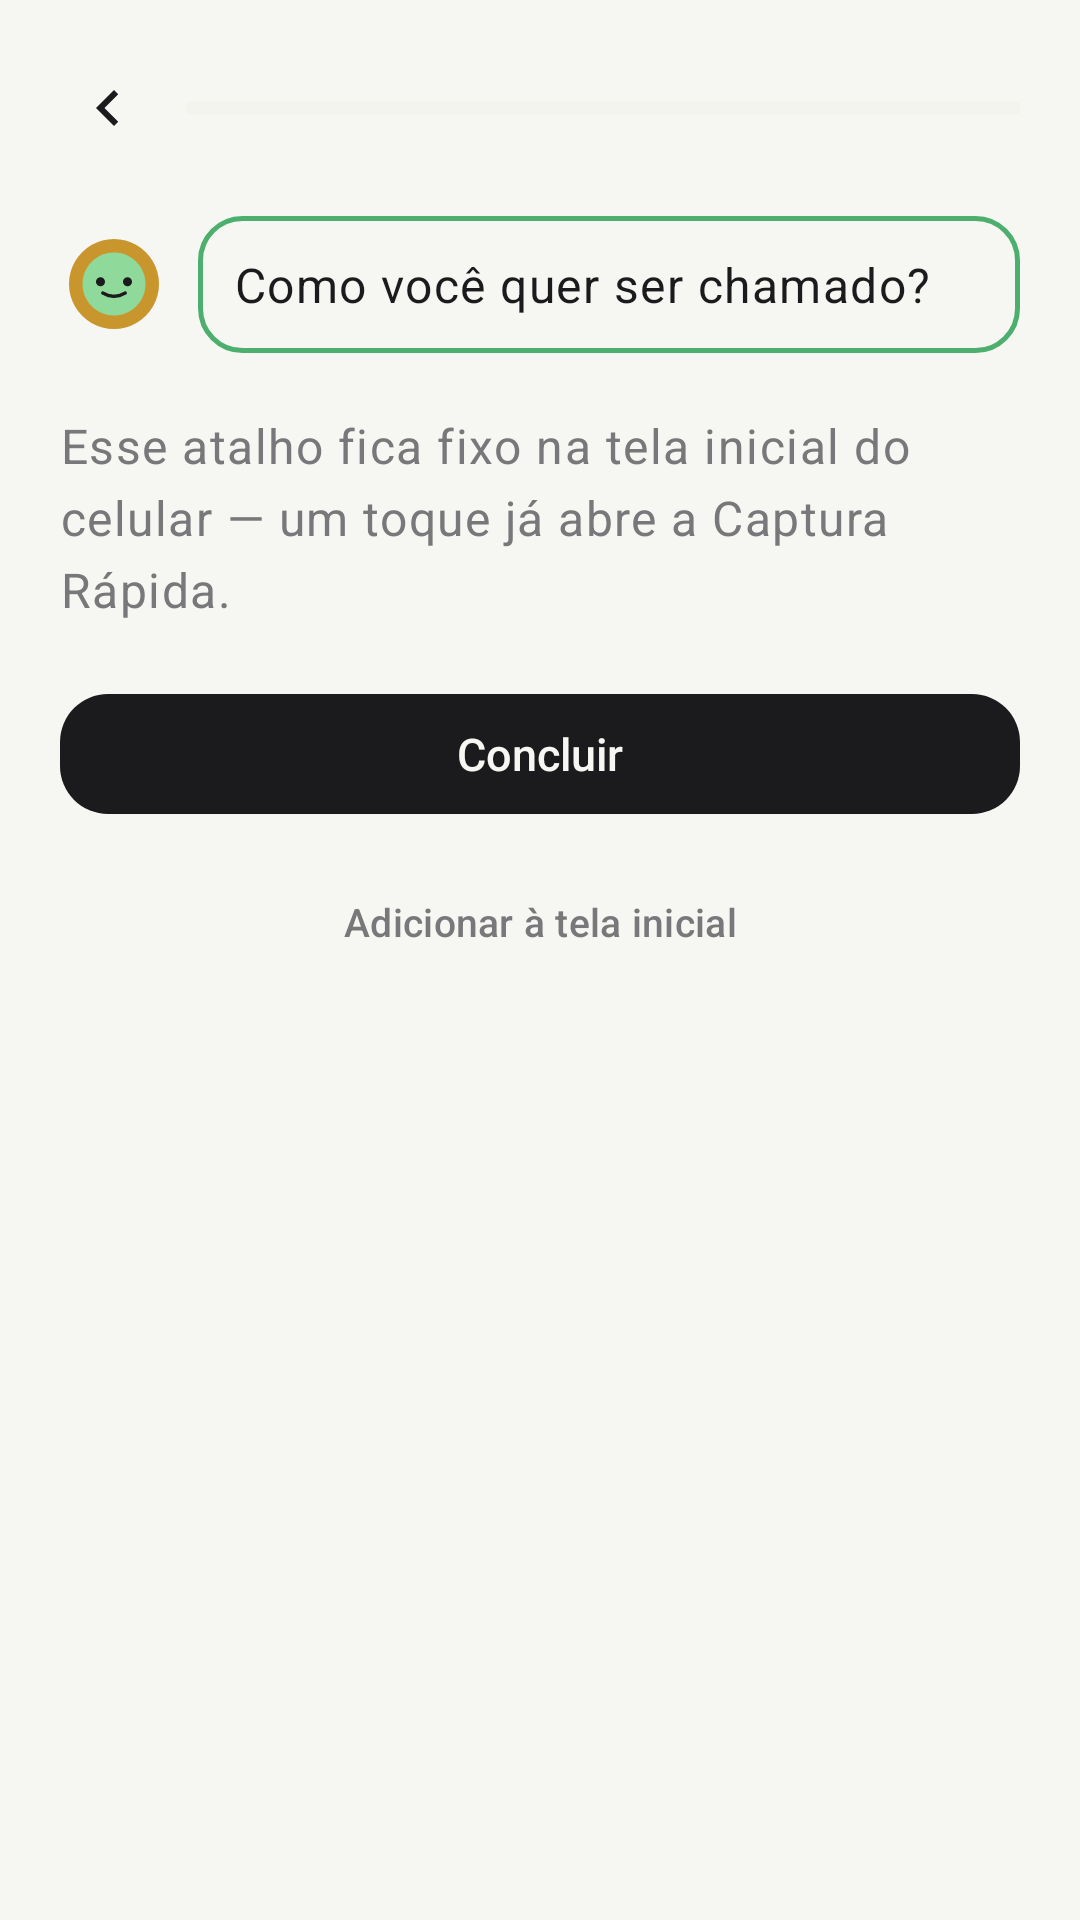

Named icons in this screenshot (1080px x 1920px) and their bounding boxes, rect(x1, y1, x2, y2):
Mascote do Anota+: rect(69, 239, 159, 329)
Voltar: rect(96, 90, 118, 126)
